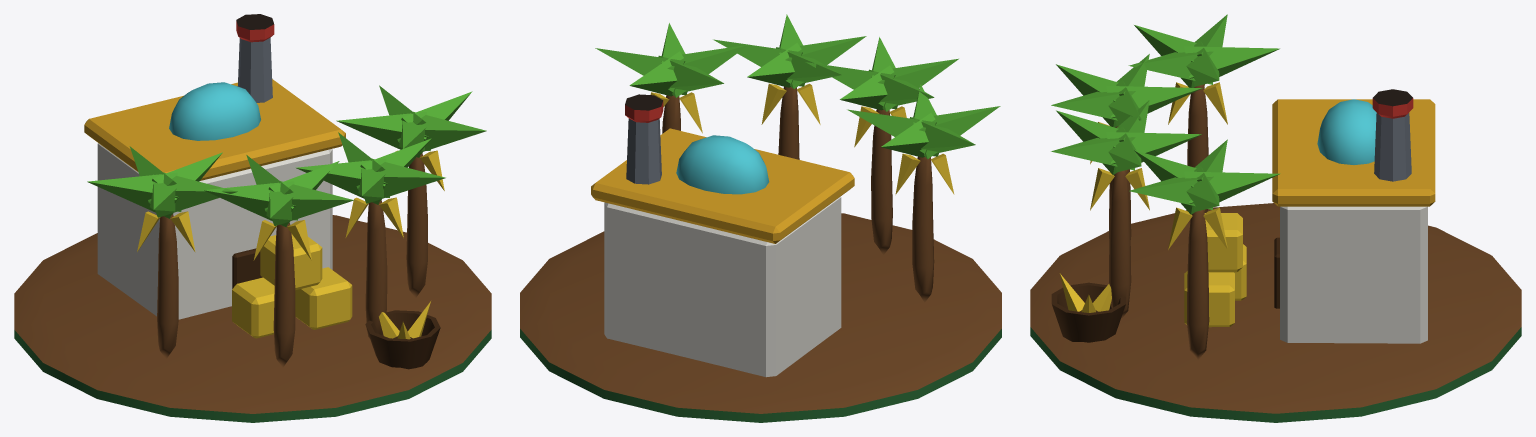
3 renders of one model, left to right at view 1: azimuth 30°, elevation 25°; view 2: azimuth 150°, elevation 25°; view 3: azimuth 270°, elevation 25°, orthographic. The views are drawn at different scales.
Parts seen in each view (by area): view 1: fazenda_0_base; view 2: fazenda_0_base; view 3: fazenda_0_base.
Part boxes in pixels (x1=…): fazenda_0_base: x1=14, y1=14, x2=491, y2=422; fazenda_0_base: x1=520, y1=14, x2=1001, y2=422; fazenda_0_base: x1=1030, y1=14, x2=1521, y2=422.
Size of the model in its own units: 1.28 by 0.71 by 1.26.
